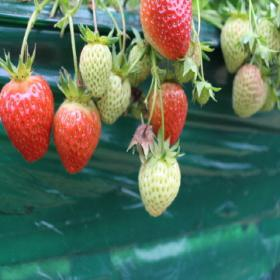Gray Mold: (126, 123, 157, 160)
